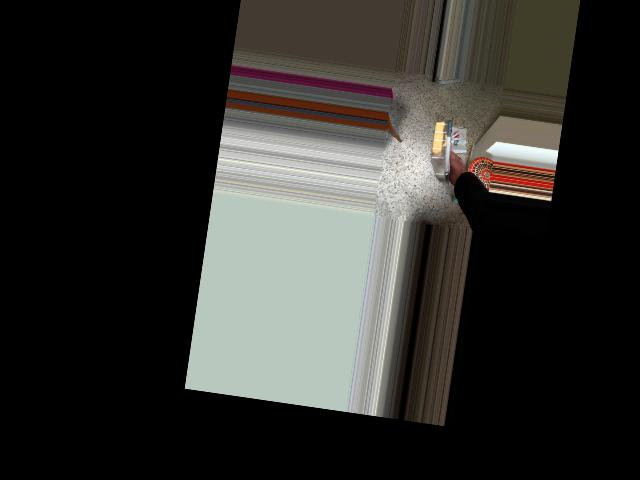cheese: (420, 116, 469, 181)
